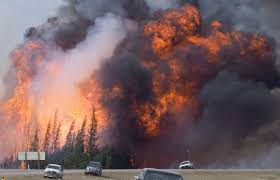fire: (60, 71, 108, 128), (7, 62, 36, 151)
smoke: (212, 10, 277, 164), (40, 1, 147, 51)
